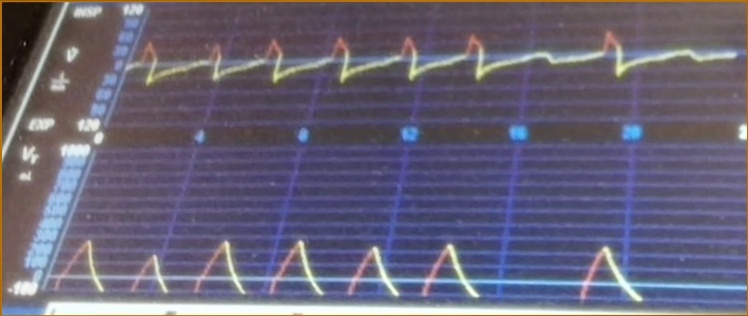Ineffective_effort Flow: (127, 23, 734, 113)
Ineffective_effort Volume: (56, 230, 651, 302)
